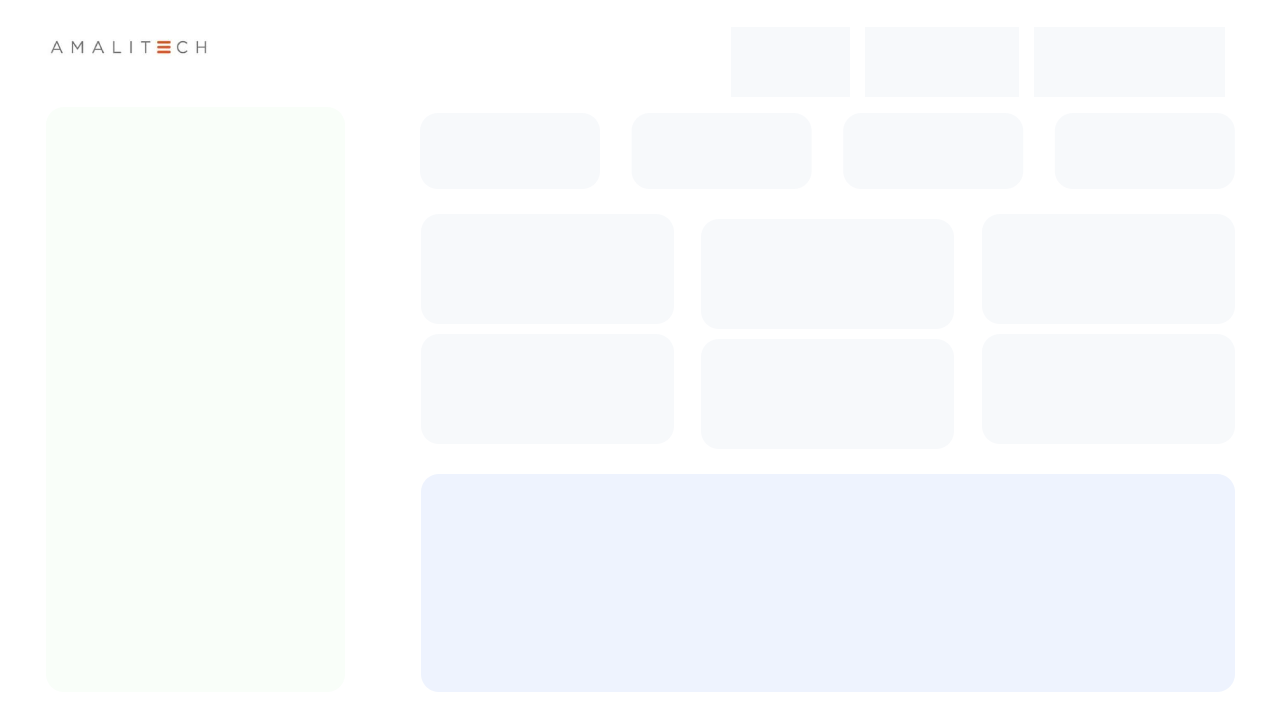

Layout of this report page (visuals, bound fields, positions):
{"tool":"powerbi","page":{"name":"Dashboard","canvas":[1280,720],"ordinal":1},"visuals":[{"type":"slicer","fields":{"Values":["Zoom Attendance.Cohort"]},"box":[634,110.4,179.4,78.5],"z":0},{"type":"tableEx","fields":{"Values":["Zoom Attendance.Name","Zoom Attendance.Cohort","Participation Status.Attendance Count","Participation Status.Program Status"]},"box":[43,104,300,582],"z":1000},{"type":"card","fields":{"Values":["Labs.Week"]},"box":[422,210,254,110],"z":2000},{"type":"card","fields":{"Values":["Labs.Average Labs Completed"]},"box":[703,210,254,118],"z":3000},{"type":"card","fields":{"Values":["Zoom Attendance.Hours"]},"box":[980,202,254,118],"z":4000},{"type":"card","fields":{"Values":["Labs.Average Ass. Score"]},"box":[980,328,262,122],"z":5000},{"type":"card","fields":{"Values":["Zoom Attendance.Average Participation Rate"]},"box":[703,336,254,118],"z":6000},{"type":"card","fields":{"Values":["Zoom Attendance.Average Att. Rate"]},"box":[422,328,254,118],"z":7000},{"type":"slicer","fields":{"Values":["Week Number.Week"]},"box":[421.8,110.4,180.3,78.5],"z":7001},{"type":"slicer","fields":{"Values":["Participation Status.Certification Status"]},"box":[846.1,110.4,179.4,78.5],"z":7002},{"type":"slicer","fields":{"Values":["Zoom Attendance.Month"]},"box":[1054,110.4,179.4,78.5],"z":7003},{"type":"slicer","fields":{"Values":["Participation Status.Program Status"]},"box":[732.3,28.5,130.2,66.4],"z":7004},{"type":"slicer","fields":{"Values":["Assessment.Type"]},"box":[862.5,28.5,163,66.4],"z":7005},{"type":"lineClusteredColumnComboChart","fields":{"Category":["Participation Status.Cohort"],"Y":["Participation Status.Attendance Count"],"Y2":["Participation Status.Total_Graduates"],"Series":["Participation Status.Certification Status"]},"box":[421.8,469.2,820.3,216.5],"z":7006},{"type":"pageNavigator","box":[1036.8,28.5,190.6,66.4],"z":7007}]}

Visuals, with their boxes in screenshot pixels (x1, y1, x2, y2), scaled from the page's 1280x720 canvas onto the 1280x720 screenshot:
slicer - Zoom Attendance.Cohort: x1=634, y1=110, x2=813, y2=189
tableEx - Zoom Attendance.Name x Zoom Attendance.Cohort: x1=43, y1=104, x2=343, y2=686
card - Labs.Week: x1=422, y1=210, x2=676, y2=320
card - Labs.Average Labs Completed: x1=703, y1=210, x2=957, y2=328
card - Zoom Attendance.Hours: x1=980, y1=202, x2=1234, y2=320
card - Labs.Average Ass. Score: x1=980, y1=328, x2=1242, y2=450
card - Zoom Attendance.Average Participation Rate: x1=703, y1=336, x2=957, y2=454
card - Zoom Attendance.Average Att. Rate: x1=422, y1=328, x2=676, y2=446
slicer - Week Number.Week: x1=422, y1=110, x2=602, y2=189
slicer - Participation Status.Certification Status: x1=846, y1=110, x2=1026, y2=189
slicer - Zoom Attendance.Month: x1=1054, y1=110, x2=1233, y2=189
slicer - Participation Status.Program Status: x1=732, y1=28, x2=862, y2=95
slicer - Assessment.Type: x1=862, y1=28, x2=1026, y2=95
lineClusteredColumnComboChart - Participation Status.Cohort x Participation Status.Attendance Count: x1=422, y1=469, x2=1242, y2=686
pageNavigator: x1=1037, y1=28, x2=1227, y2=95
